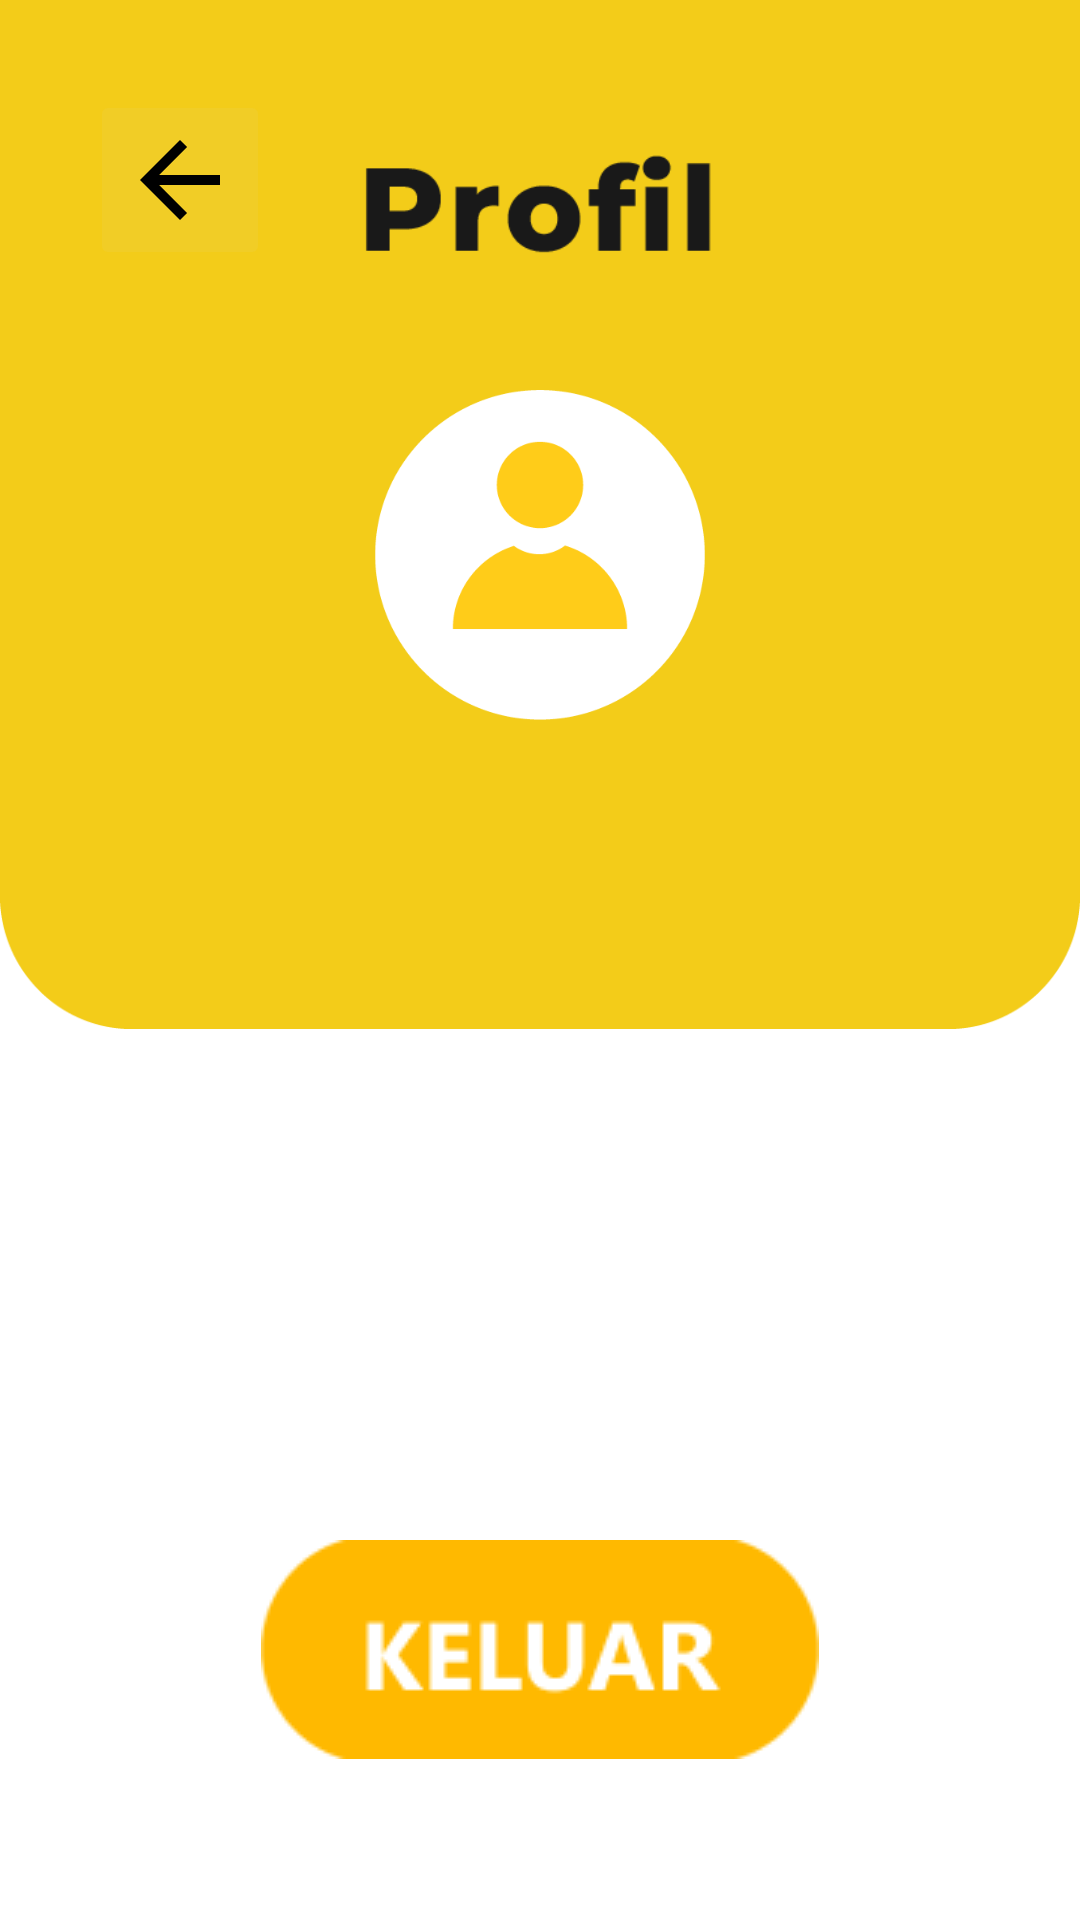

Icon click points for this 1080x1920 phone screenshot, format (x,y):
back: (180,180)
